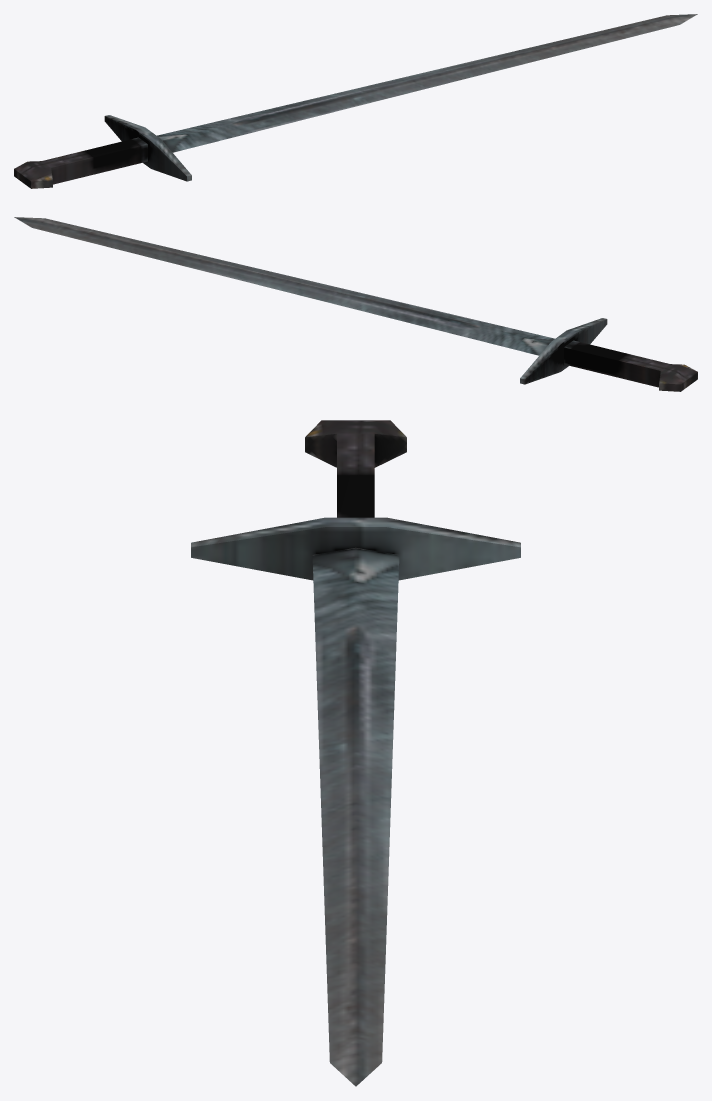
File: sword.glb
3 renders of one model, top to bottom at view 1: azimuth 30°, elevation 25°; view 2: azimuth 150°, elevation 25°; view 3: azimuth 270°, elevation 25°, orthographic. The views are drawn at different scales.
Visible parts, largest first — view 1: Sword; view 2: Sword; view 3: Sword.
Part boxes in pixels (left/top/right/bottom): Sword: left=14, top=14, right=697, bottom=188; Sword: left=14, top=217, right=697, bottom=391; Sword: left=191, top=420, right=520, bottom=1086.
Bounding box in the file's own units: 1.66 × 0.0653 × 0.3512.
Materials: 1 (1 with a texture image).
